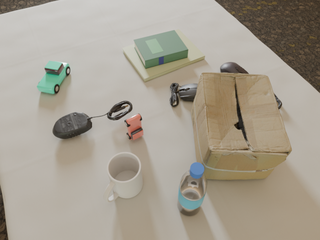book: (122, 29, 205, 82), (134, 30, 188, 68)
bottle: (177, 162, 207, 216)
box: (191, 72, 292, 180)
cup: (104, 152, 143, 203)
mouse: (53, 112, 93, 139), (170, 83, 198, 107), (220, 62, 249, 74)
toy_car: (37, 61, 70, 94), (125, 114, 143, 140)
